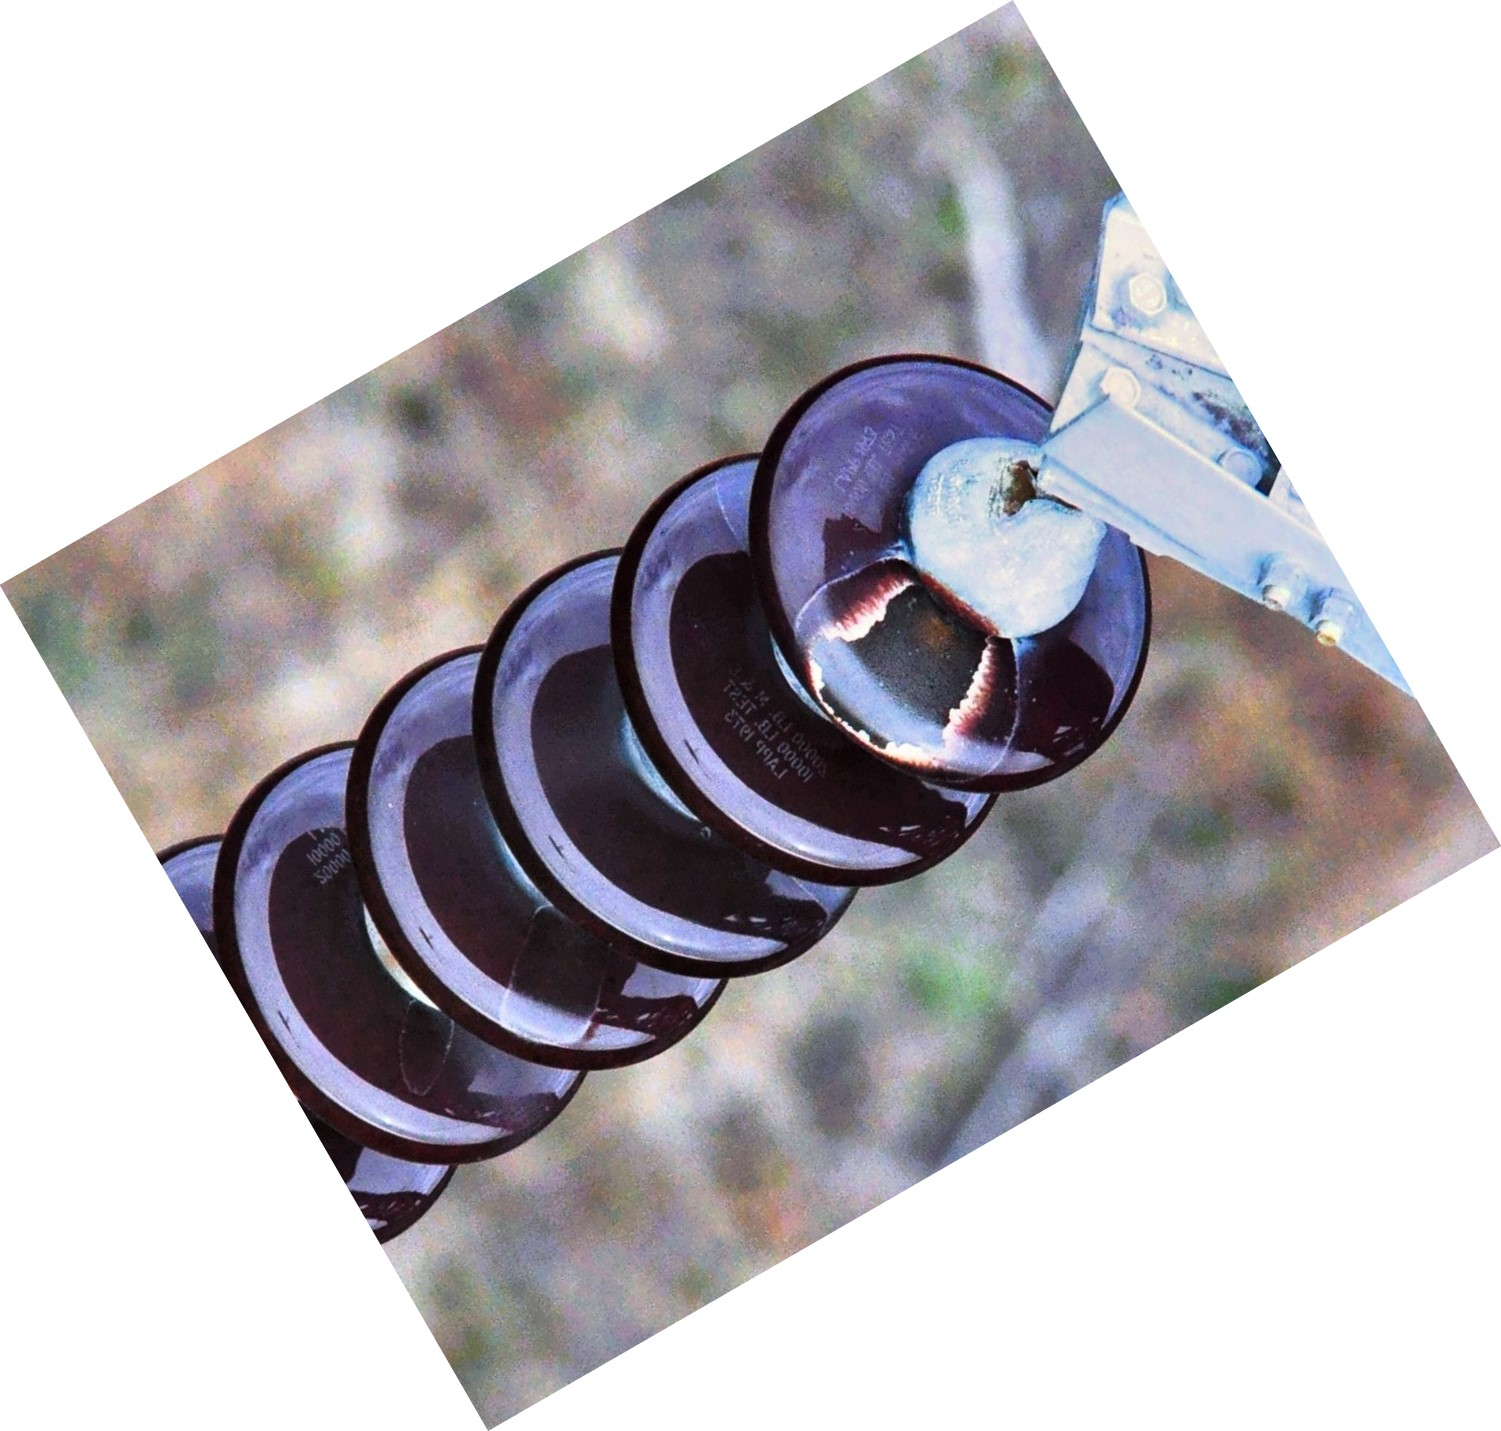Insulator flashover: (725, 340, 1182, 812)
